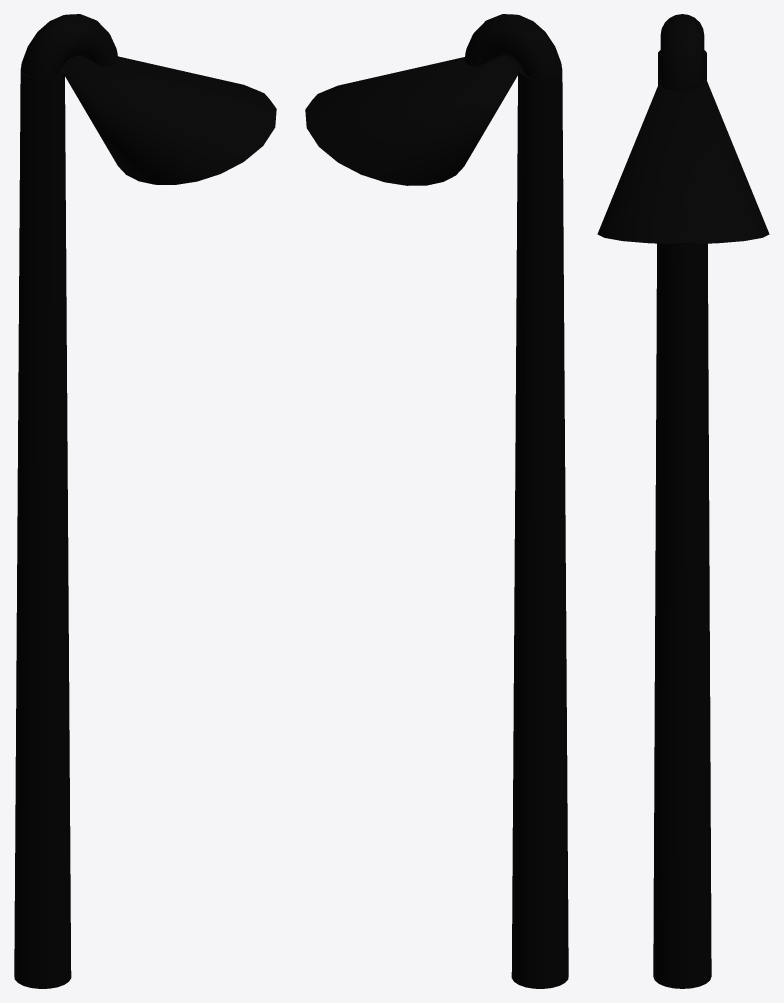
The model's file is LoadLight_Prop.fbx.
The picture shows the model from 3 angles, left to right: view 1: azimuth 30°, elevation 25°; view 2: azimuth 150°, elevation 25°; view 3: azimuth 270°, elevation 25°; orthographic projection.
Parts seen in each view (by area): view 1: pTorus4; view 2: pTorus4; view 3: pTorus4.
Boxes of the visible parts, box(x1,y1,x2,y2) form: pTorus4: box(14, 14, 276, 988); pTorus4: box(305, 14, 568, 988); pTorus4: box(597, 14, 769, 988).
Size of the model in its own units: 1.99 by 7.36 by 1.18.
1 material, 1 textured.
